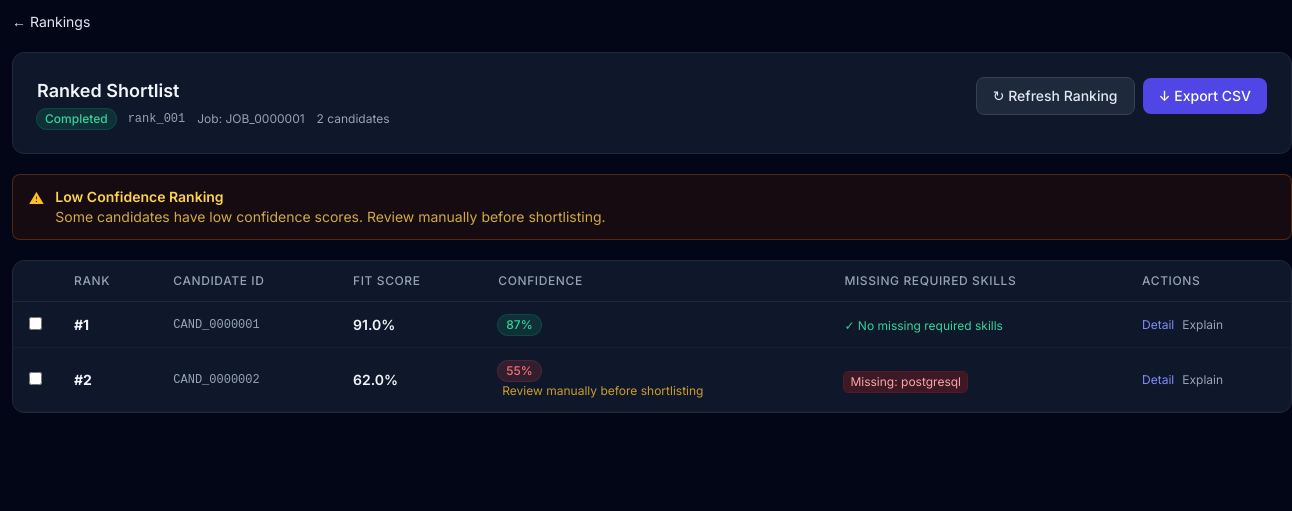
Test: RankedShortlistPage › shows AI explanation panel when Explain is clicked
Expected: the text "CAND_0000001" is shown, left=157, top=302, right=337, bottom=348
Click the button "Explain" in the row of "CAND_0000001".
click(1203, 324)  # box left=1182, top=316, right=1223, bottom=332
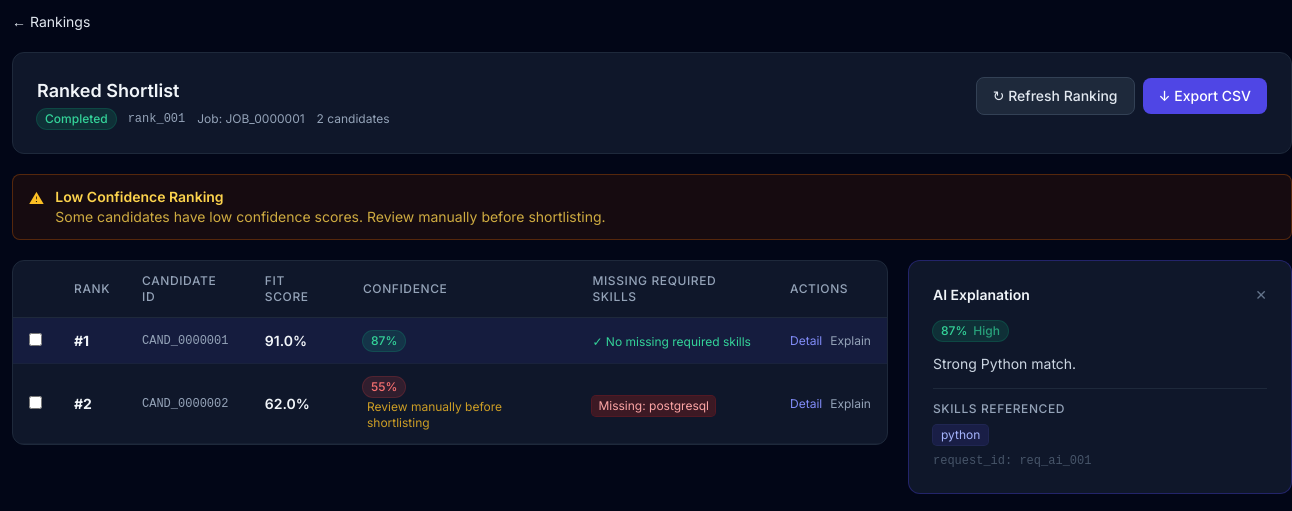
Expected: the text "Strong Python match." is shown, left=933, top=355, right=1076, bottom=372
